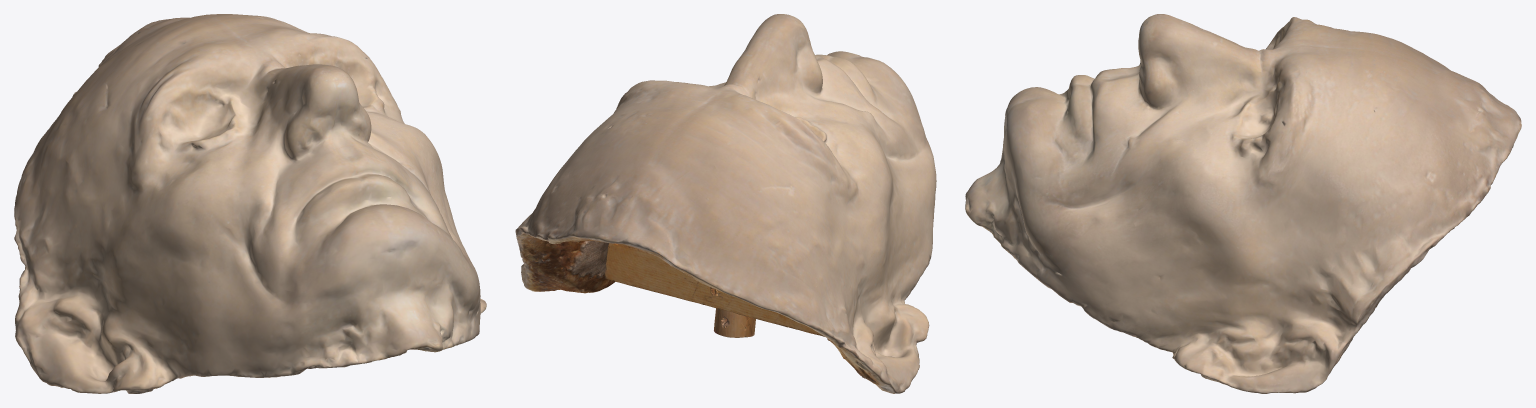
3 views of the same model, side by side, from view 1: azimuth 30°, elevation 25°; view 2: azimuth 150°, elevation 25°; view 3: azimuth 270°, elevation 25° (orthographic). The views are drawn at different scales.
Bounding box in the file's own units: 203 × 147 × 247.
Materials: 1 (1 with a texture image).
